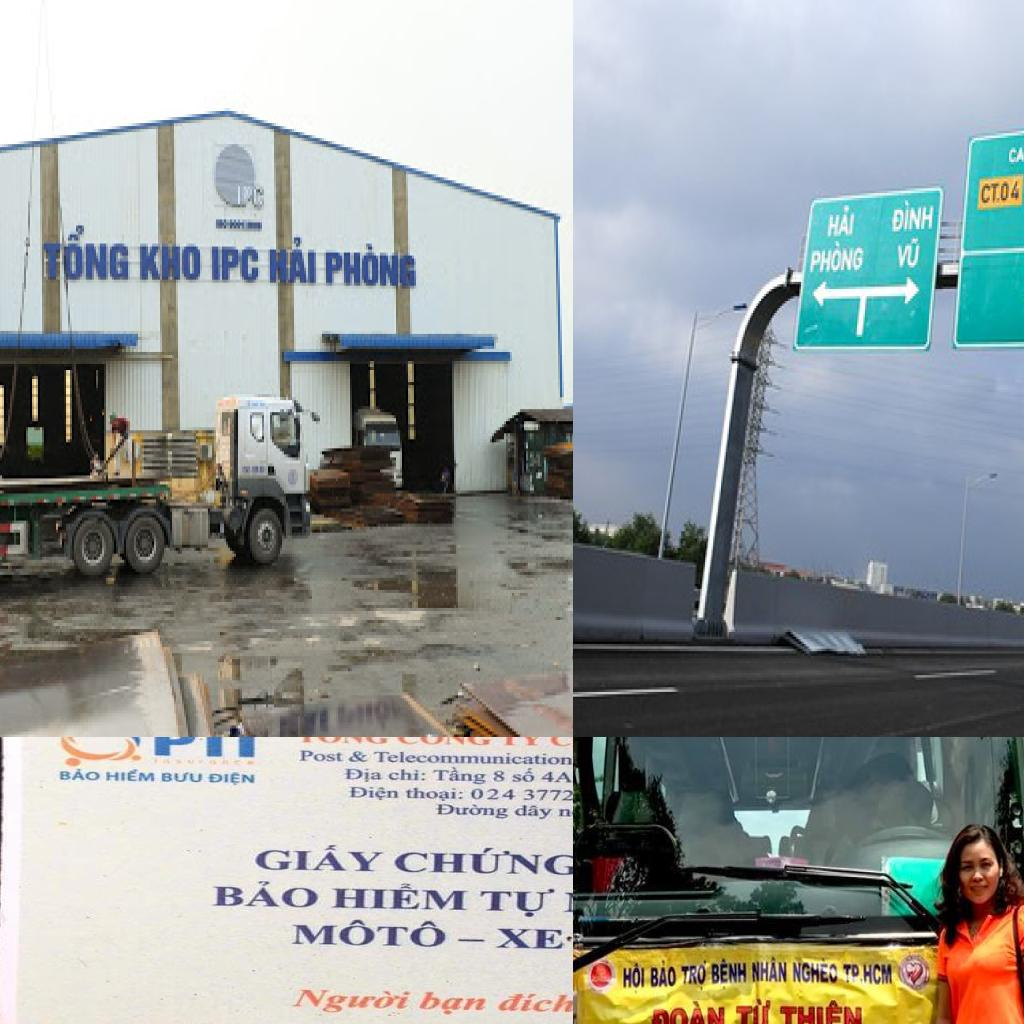text: (40, 222, 130, 286), (288, 916, 452, 951), (391, 846, 573, 877), (324, 240, 418, 292), (327, 881, 472, 914), (252, 843, 389, 873), (286, 987, 416, 1016), (209, 878, 323, 910), (370, 750, 573, 767), (138, 244, 204, 286), (268, 234, 318, 288), (476, 887, 558, 919), (809, 236, 867, 277), (151, 737, 259, 759), (776, 998, 865, 1024), (412, 990, 495, 1017), (210, 244, 262, 286), (650, 1000, 728, 1024), (492, 992, 573, 1015), (889, 198, 937, 236), (492, 927, 568, 951), (468, 788, 573, 804), (790, 956, 840, 987), (842, 960, 894, 988), (709, 957, 749, 992), (980, 176, 1022, 208), (432, 804, 510, 820), (431, 766, 489, 786), (826, 202, 858, 238), (750, 956, 787, 987), (348, 785, 404, 804), (405, 786, 467, 803), (734, 998, 774, 1024), (395, 737, 494, 747), (236, 184, 268, 214), (896, 236, 924, 270), (648, 959, 678, 990), (206, 771, 259, 788), (680, 960, 708, 992), (621, 961, 646, 995), (104, 768, 160, 783), (294, 737, 391, 745), (341, 767, 386, 784), (513, 804, 555, 822), (58, 768, 104, 784), (298, 749, 346, 763), (158, 770, 204, 784), (388, 768, 428, 783), (496, 737, 547, 748), (539, 770, 573, 785), (510, 767, 538, 784), (1009, 142, 1024, 166), (346, 750, 370, 764), (556, 804, 573, 822), (547, 737, 573, 748), (491, 770, 508, 784)
